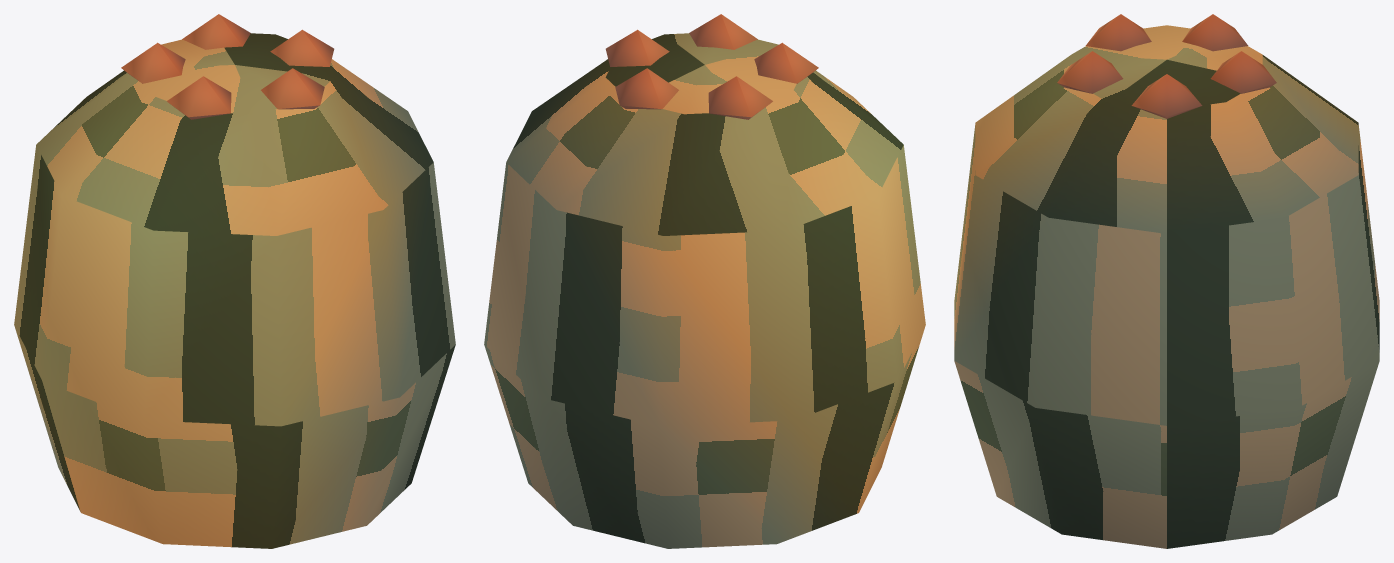
Rendered from wprop.cactus__barrel.glb.
3 renders of one model, left to right at view 1: azimuth 30°, elevation 25°; view 2: azimuth 150°, elevation 25°; view 3: azimuth 270°, elevation 25°, orthographic.
Visible parts, largest first — view 1: kit_body, kit_flowers; view 2: kit_body, kit_flowers; view 3: kit_body, kit_flowers.
Boxes of the visible parts, left/top/right/bottom form: kit_body: left=14, top=33, right=455, bottom=548; kit_flowers: left=121, top=14, right=334, bottom=119; kit_body: left=484, top=33, right=925, bottom=548; kit_flowers: left=605, top=14, right=818, bottom=119; kit_body: left=954, top=25, right=1379, bottom=548; kit_flowers: left=1057, top=14, right=1276, bottom=118.
Bounding box in the file's own units: 0.6 × 0.64 × 0.5706.
2 materials, 2 textured.
